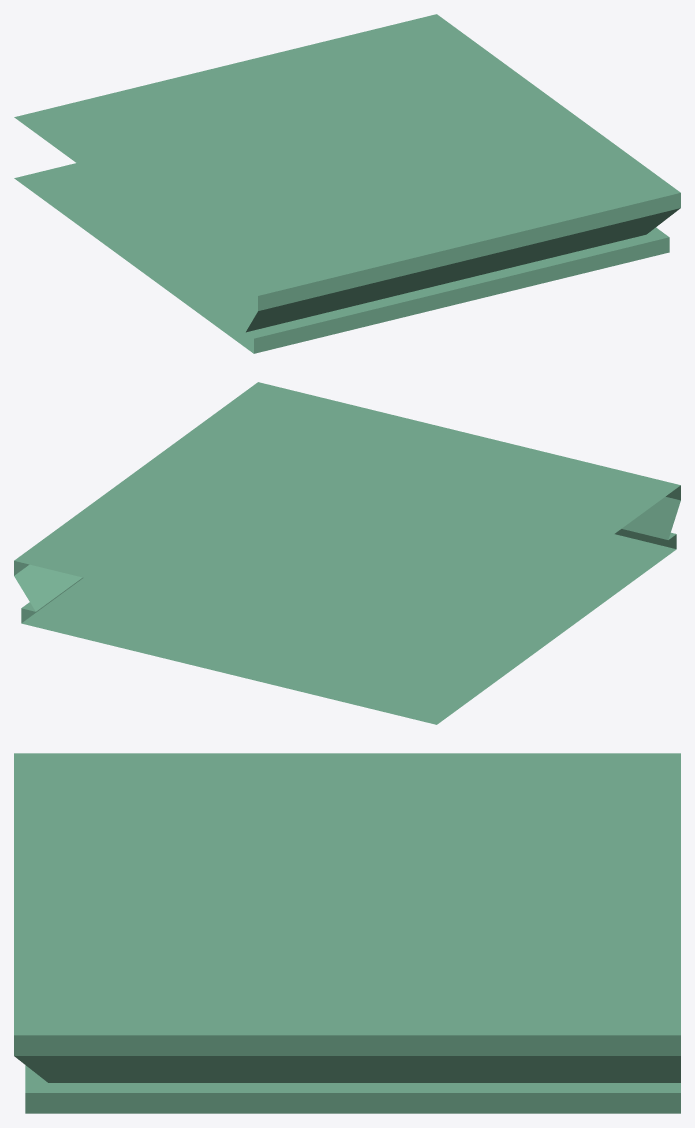
File: object_B2_Top_floors_div_corner.glb
The picture shows the model from 3 angles, top to bottom: view 1: azimuth 30°, elevation 25°; view 2: azimuth 150°, elevation 25°; view 3: azimuth 270°, elevation 25°; orthographic projection. The views are drawn at different scales.
Visible parts, largest first — view 1: B2 Top floors div corner; view 2: B2 Top floors div corner; view 3: B2 Top floors div corner.
Part boxes in pixels (x1,y1,x2,y2): B2 Top floors div corner: (14,14,680,353); B2 Top floors div corner: (14,382,680,724); B2 Top floors div corner: (14,753,680,1113).
Bounding box in the file's own units: 2.9 × 0.4 × 2.9.
